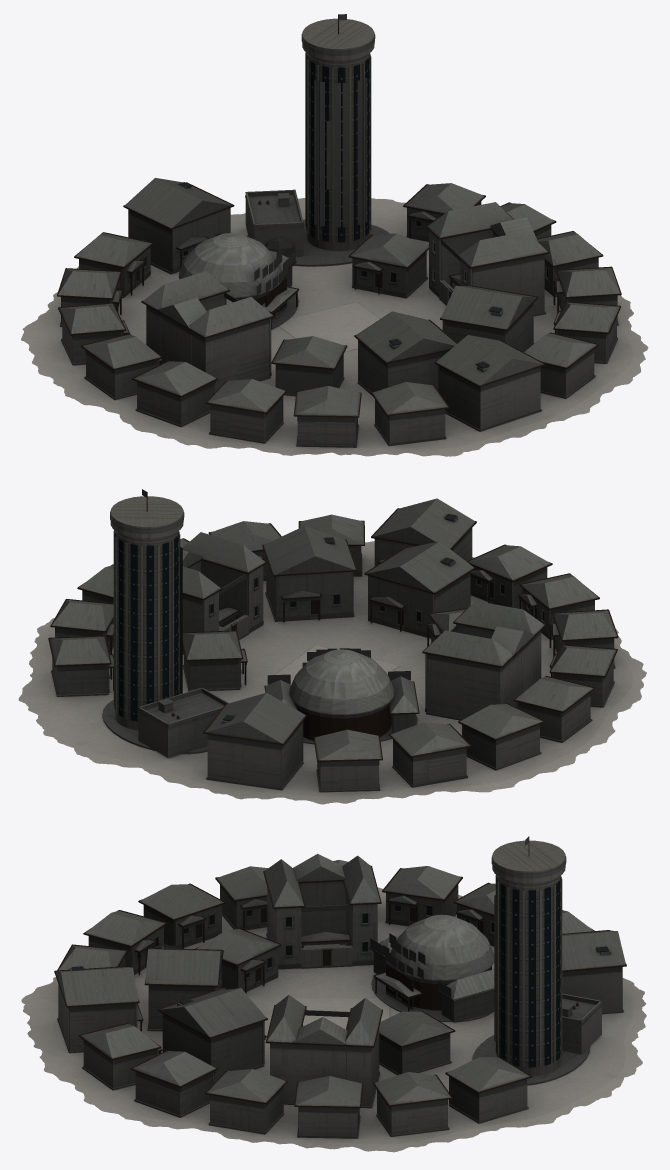
The model's file is modern-town-big-b-eastafrica-1c265324.glb.
3 views of the same model, one above another, from view 1: azimuth 30°, elevation 25°; view 2: azimuth 150°, elevation 25°; view 3: azimuth 270°, elevation 25° (orthographic).
Parts seen in each view (by area): view 1: LOD0; view 2: LOD0; view 3: LOD0.
Boxes of the visible parts, x1=… form: LOD0: x1=21, y1=14, x2=648, y2=456; LOD0: x1=18, y1=489, x2=646, y2=804; LOD0: x1=21, y1=836, x2=646, y2=1152.
Size of what is drawn, in the model's own units: 7.97 by 3.15 by 7.95.
Materials: 3 (3 with a texture image).
